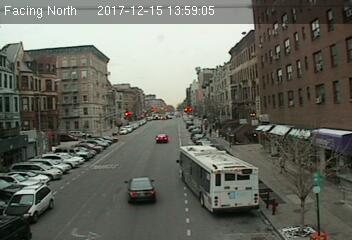bus: (178, 144, 259, 216)
car: (4, 184, 55, 221), (124, 175, 160, 203)
pedestrian: (278, 154, 287, 177)
